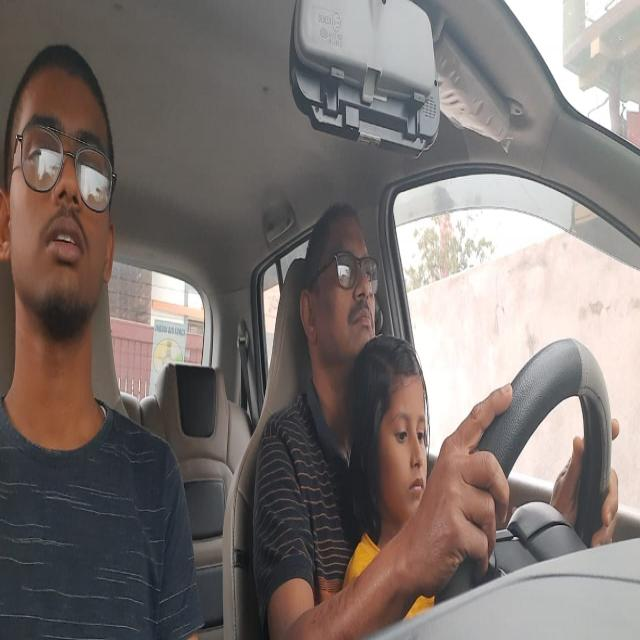child: (349, 327, 430, 522)
person: (2, 45, 119, 369), (303, 205, 379, 380)
